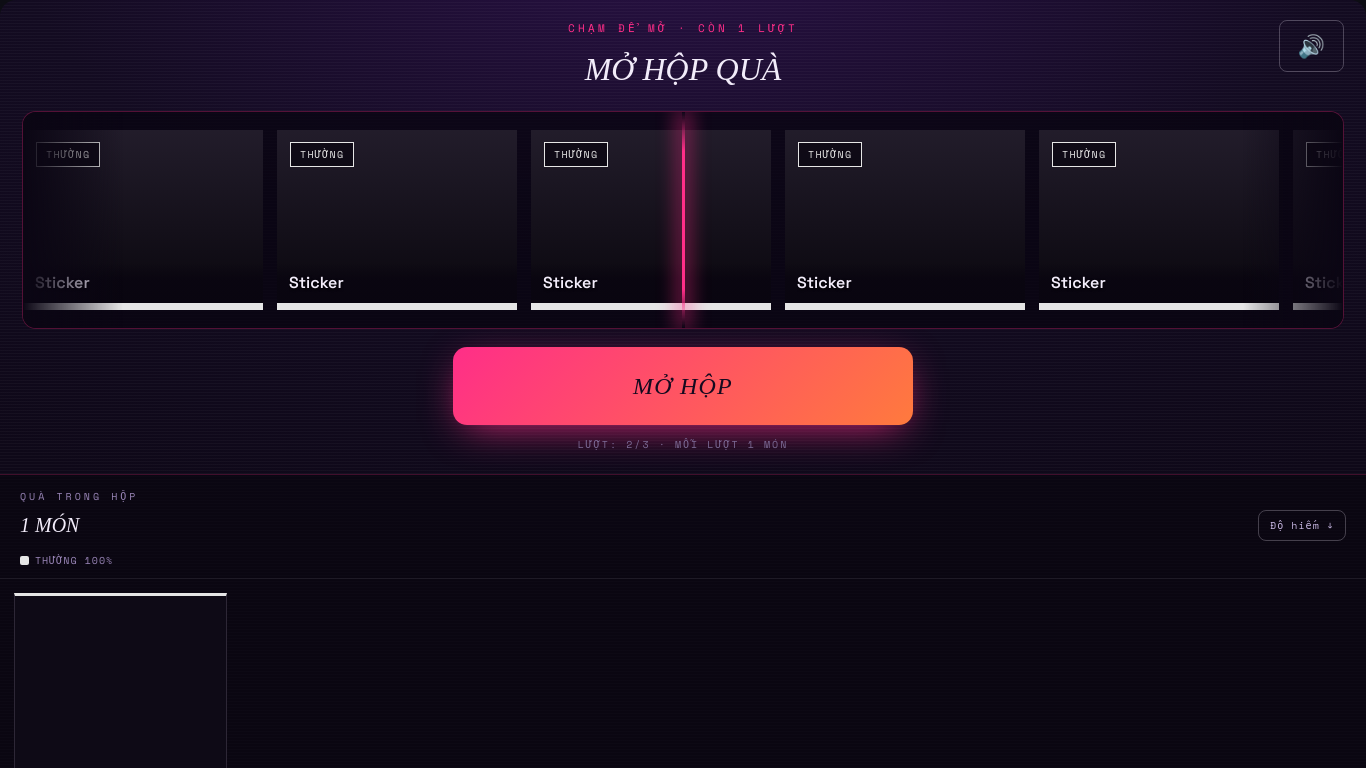
GachaMachine › reports the drawFn response and session completion to the caller
Click the button "Mở hộp": (683, 386) [453,346,913,424]
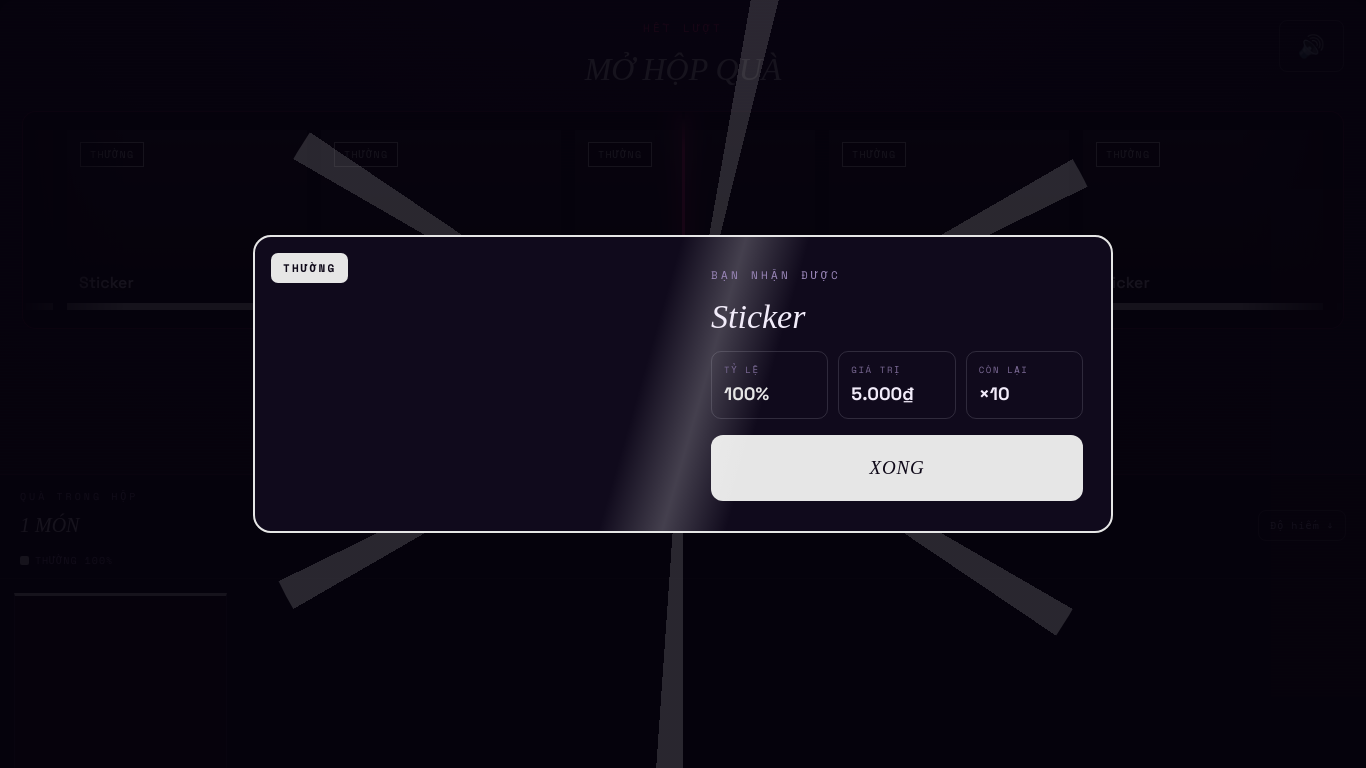
Result: the button "Hết lượt" is disabled at [453,346,913,424]
